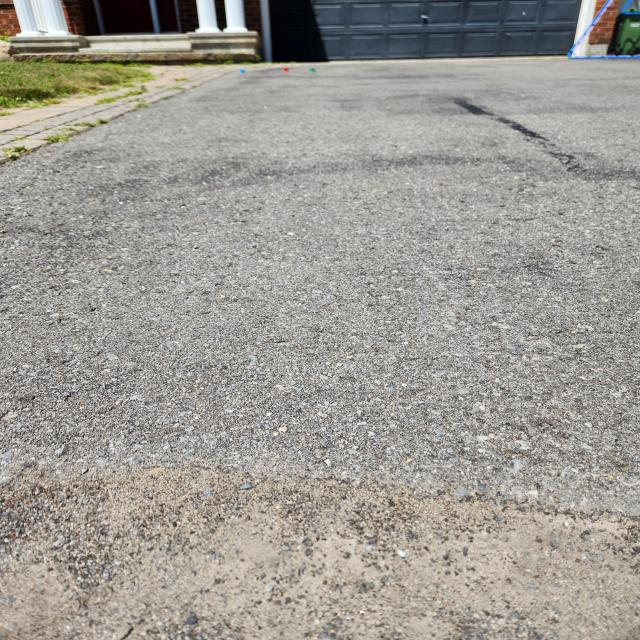bluecube: (240, 69, 245, 73)
green cube: (310, 68, 316, 72)
red cube: (284, 67, 288, 72)
